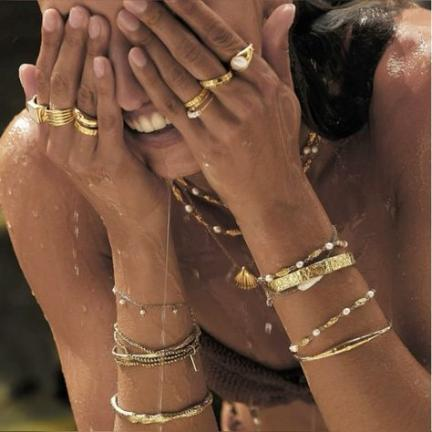Nail: (117, 9, 140, 32), (129, 47, 148, 67), (69, 9, 84, 29), (125, 0, 147, 13), (43, 11, 56, 31), (88, 19, 100, 39), (94, 57, 105, 78)
